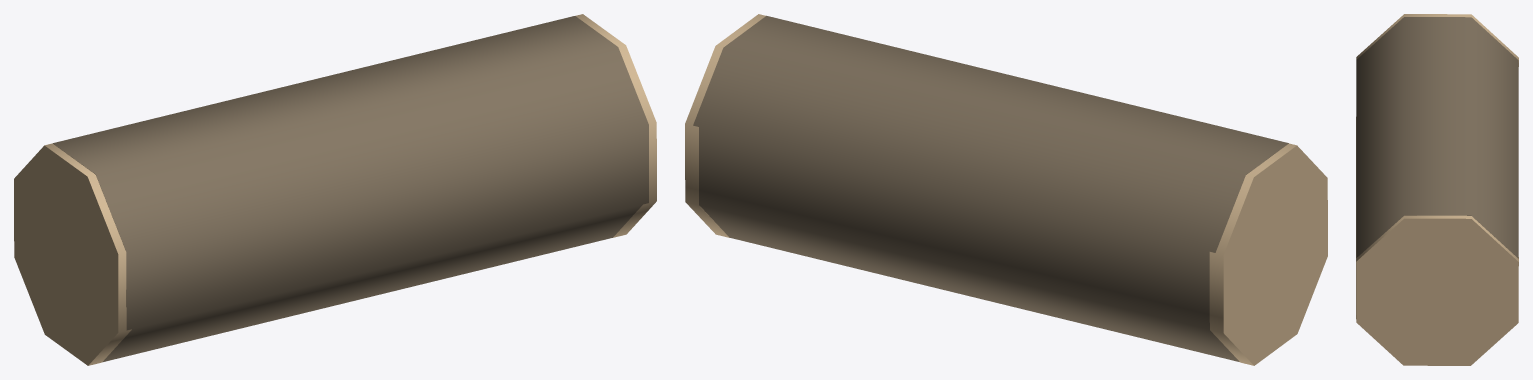
File: Wood_log.fbx
3 renders of one model, left to right at view 1: azimuth 30°, elevation 25°; view 2: azimuth 150°, elevation 25°; view 3: azimuth 270°, elevation 25°, orthographic. The views are drawn at different scales.
Parts seen in each view (by area): view 1: Cylinder__7_, Cylinder__8_, Cylinder__9_; view 2: Cylinder__7_, Cylinder__8_, Cylinder__9_; view 3: Cylinder__7_, Cylinder__9_, Cylinder__8_.
Boxes of the visible parts, x1,y1,x2,y2 form: Cylinder__7_: (53, 16, 648, 362); Cylinder__8_: (14, 143, 131, 365); Cylinder__9_: (575, 14, 656, 237); Cylinder__7_: (693, 15, 1288, 361); Cylinder__8_: (1209, 143, 1327, 365); Cylinder__9_: (685, 14, 765, 237); Cylinder__7_: (1356, 17, 1518, 318); Cylinder__9_: (1356, 215, 1518, 365); Cylinder__8_: (1356, 14, 1518, 66).
Bounding box in the file's own units: 119 × 40.04 × 40.02.
